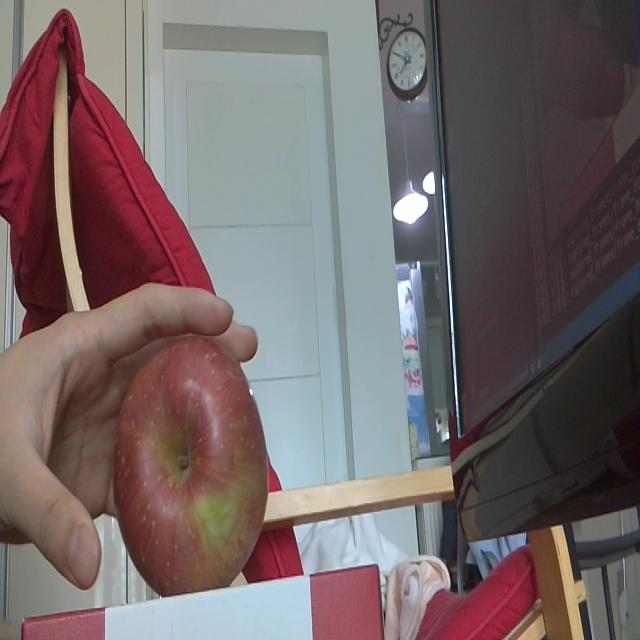apple: (115, 337, 275, 603)
